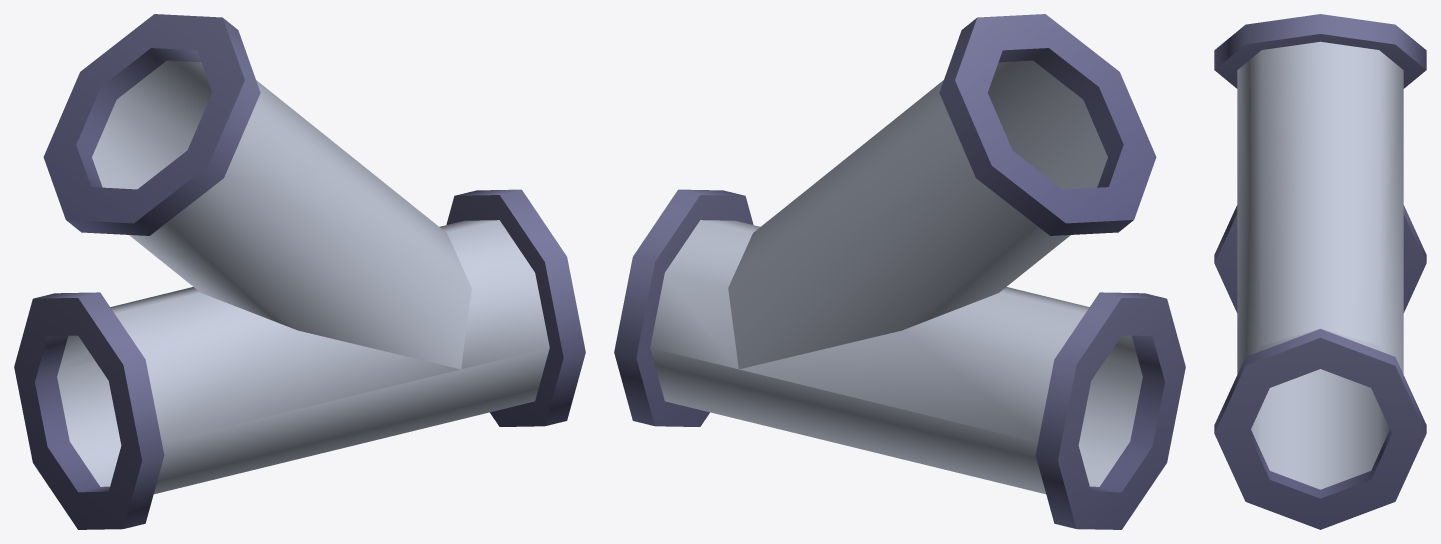
The model's file is kenney-factory-pipe-glass-large-junction.glb.
The picture shows the model from 3 angles, left to right: view 1: azimuth 30°, elevation 25°; view 2: azimuth 150°, elevation 25°; view 3: azimuth 270°, elevation 25°; orthographic projection. The views are drawn at different scales.
Parts seen in each view (by area): view 1: pipe-glass-large-junction; view 2: pipe-glass-large-junction; view 3: pipe-glass-large-junction.
Part boxes in pixels (bbox=[...]): pipe-glass-large-junction: bbox=[14, 14, 585, 529]; pipe-glass-large-junction: bbox=[614, 14, 1185, 529]; pipe-glass-large-junction: bbox=[1214, 14, 1426, 529].
Bounding box in the file's own units: 3.08 × 3.08 × 1.5.
Materials: 2 (1 with a texture image).
